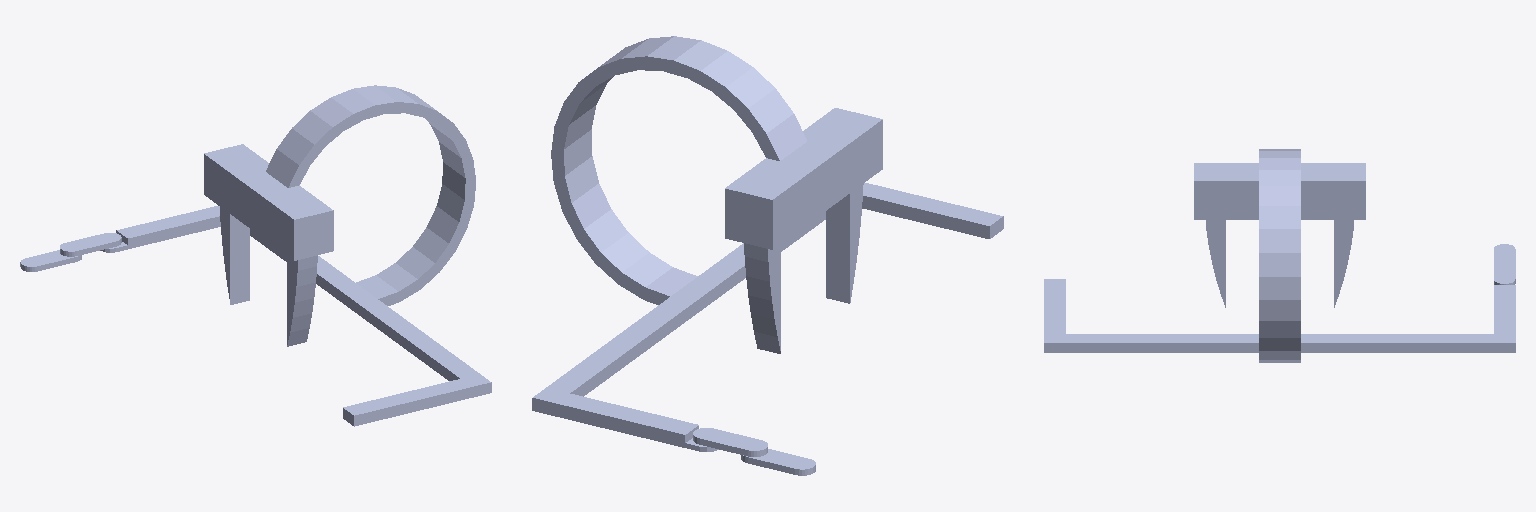
The robot description file, URDF, robot "grippertest0325":
<?xml version="1.0" encoding="utf-8" ?>
<!-- This URDF was automatically created by SolidWorks to URDF Exporter! Originally created by [author] ([email redacted]) 
     Commit Version: 1.6.0-1-g15f4949  Build Version: 1.6.7594.29634
     For more information, please see http://wiki.ros.org/sw_urdf_exporter -->
<robot name="grippertest0325">
    <link name="dummy" />
    <link name="Link_0">
        
<inertial>
            <origin xyz="0.01 0 0.00125" rpy="0 0 0" />
            <mass value="0.00069635" />
            <inertia ixx="5.7565E-09" ixy="-2.5269E-25" ixz="-1.969E-25" iyy="4.6225E-08" iyz="3.767E-27" izz="5.1256E-08" />
        </inertial>

        <visual>
            <origin xyz="0 0 0" rpy="0 0 0" />
            <geometry>
                <mesh filename="package://grippertest0325/meshes/Link_0.STL" />
            </geometry>
            <material name="">
                <color rgba="0.79216 0.81961 0.93333 1" />
            </material>
        </visual>
        <collision>
            <origin xyz="0 0 0" rpy="0 0 0" />
            <geometry>
                <mesh filename="package://grippertest0325/meshes/Link_0.STL" />
            </geometry>
        </collision>
    </link>
    <joint name="dummy_joint" type="fixed">
        <parent link="dummy" />
        <child link="Link_0" />
    </joint>
    <link name="Link_1">
        
<inertial>
            <origin xyz="0.01 -1.3878E-17 0.00125" rpy="0 0 0" />
            <mass value="0.00069635" />
            <inertia ixx="5.7565E-09" ixy="-7.4647E-26" ixz="-1.1962E-25" iyy="4.6225E-08" iyz="3.767E-27" izz="5.1256E-08" />
        </inertial>

        <visual>
            <origin xyz="0 0 0" rpy="0 0 0" />
            <geometry>
                <mesh filename="package://grippertest0325/meshes/Link_1.STL" />
            </geometry>
            <material name="">
                <color rgba="0.79216 0.81961 0.93333 1" />
            </material>
        </visual>
        <collision>
            <origin xyz="0 0 0" rpy="0 0 0" />
            <geometry>
                <mesh filename="package://grippertest0325/meshes/Link_1.STL" />
            </geometry>
        </collision>
    </link>
    <joint name="Joint_1" type="revolute">
        <origin xyz="0.02 0 0.0027786" rpy="0 0 0" />
        <parent link="Link_0" />
        <child link="Link_1" />
        <axis xyz="0 0 1" />
        <limit lower="-1.5708" upper="1.5708" effort="50" velocity="0.1" />
    </joint>
    <link name="Link_2">
        
<inertial>
            <origin xyz="0.048044 -0.10517 0.043641" rpy="0 0 0" />
            <mass value="0.071091" />
            <inertia ixx="0.00020235" ixy="-5.167E-07" ixz="1.301E-05" iyy="0.00014954" iyz="-4.9942E-07" izz="0.00021352" />
        </inertial>

        <visual>
            <origin xyz="0 0 0" rpy="0 0 0" />
            <geometry>
                <mesh filename="package://grippertest0325/meshes/Link_2.STL" />
            </geometry>
            <material name="">
                <color rgba="0.79216 0.81961 0.93333 1" />
            </material>
        </visual>
        <collision>
            <origin xyz="0 0 0" rpy="0 0 0" />
            <geometry>
                <mesh filename="package://grippertest0325/meshes/Link_2.STL" />
            </geometry>
        </collision>
    </link>
    <joint name="Joint_2" type="revolute">
        <origin xyz="0.02 0 -0.00077864" rpy="0 0 0" />
        <parent link="Link_1" />
        <child link="Link_2" />
        <axis xyz="0 0 1" />
        <limit lower="-1.5708" upper="1.5708" effort="50" velocity="0.1" />
    </joint>
    <link name="Link_innerfinger">
        
<inertial>
            <origin xyz="-0.0037807 3.1225E-17 -0.017868" rpy="0 0 0" />
            <mass value="0.0030424" />
            <inertia ixx="4.5793E-07" ixy="-1.5066E-21" ixz="3.8184E-08" iyy="4.5194E-07" iyz="-1.9432E-22" izz="4.4555E-08" />
        </inertial>

        <visual>
            <origin xyz="0 0 0" rpy="0 0 0" />
            <geometry>
                <mesh filename="package://grippertest0325/meshes/Link_innerfinger.STL" />
            </geometry>
            <material name="">
                <color rgba="0.79216 0.81961 0.93333 1" />
            </material>
        </visual>
        <collision>
            <origin xyz="0 0 0" rpy="0 0 0" />
            <geometry>
                <mesh filename="package://grippertest0325/meshes/Link_innerfinger.STL" />
            </geometry>
        </collision>
    </link>
    <joint name="Joint_innerfinger" type="prismatic">
        <origin xyz="0.02 -0.08 0.048" rpy="0 0 -1.5708" />
        <parent link="Link_2" />
        <child link="Link_innerfinger" />
        <axis xyz="1 0 0" />
        <limit lower="-0.25" upper="0.25" effort="50" velocity="0.005" />
    </joint>
    <link name="Link_exterfinger">
        
<inertial>
            <origin xyz="0.0037807 -1.648E-16 -0.017868" rpy="0 0 0" />
            <mass value="0.0030424" />
            <inertia ixx="4.5793E-07" ixy="-2.3911E-21" ixz="-3.8184E-08" iyy="4.5194E-07" iyz="-2.5791E-21" izz="4.4555E-08" />
        </inertial>

        <visual>
            <origin xyz="0 0 0" rpy="0 0 0" />
            <geometry>
                <mesh filename="package://grippertest0325/meshes/Link_exterfinger.STL" />
            </geometry>
            <material name="">
                <color rgba="0.79216 0.81961 0.93333 1" />
            </material>
        </visual>
        <collision>
            <origin xyz="0 0 0" rpy="0 0 0" />
            <geometry>
                <mesh filename="package://grippertest0325/meshes/Link_exterfinger.STL" />
            </geometry>
        </collision>
    </link>
    <joint name="Joint_exterfinger" type="prismatic">
        <origin xyz="0.02 -0.13 0.048" rpy="0 0 -1.5708" />
        <parent link="Link_2" />
        <child link="Link_exterfinger" />
        <axis xyz="1 0 0" />
        <limit lower="-0.25" upper="0.25" effort="50" velocity="0.005" />
    </joint>
    
<transmission name="trans_Joint_1">
        <type>transmission_interface/SimpleTransmission</type>
        <joint name="Joint_1">
            <hardwareInterface>hardware_interface/PositionJointInterface</hardwareInterface>
        </joint>
        <actuator name="Joint_1_motor">
            <hardwareInterface>hardware_interface/PositionJointInterface</hardwareInterface>
            <mechanicalReduction>1</mechanicalReduction>
        </actuator>
    </transmission>
    <transmission name="trans_Joint_2">
        <type>transmission_interface/SimpleTransmission</type>
        <joint name="Joint_2">
            <hardwareInterface>hardware_interface/PositionJointInterface</hardwareInterface>
        </joint>
        <actuator name="Joint_2_motor">
            <hardwareInterface>hardware_interface/PositionJointInterface</hardwareInterface>
            <mechanicalReduction>1</mechanicalReduction>
        </actuator>
    </transmission>
    <transmission name="trans_Joint_innerfinger">
        <type>transmission_interface/SimpleTransmission</type>
        <joint name="Joint_innerfinger">
            <hardwareInterface>hardware_interface/PositionJointInterface</hardwareInterface>
        </joint>
        <actuator name="Joint_innerfinger_motor">
            <hardwareInterface>hardware_interface/PositionJointInterface</hardwareInterface>
            <mechanicalReduction>1</mechanicalReduction>
        </actuator>
    </transmission>
    <transmission name="trans_Joint_exterfinger">
        <type>transmission_interface/SimpleTransmission</type>
        <joint name="Joint_exterfinger">
            <hardwareInterface>hardware_interface/PositionJointInterface</hardwareInterface>
        </joint>
        <actuator name="Joint_exterfinger_motor">
            <hardwareInterface>hardware_interface/PositionJointInterface</hardwareInterface>
            <mechanicalReduction>1</mechanicalReduction>
        </actuator>
    </transmission>
    <gazebo reference="Link_innerfinger">
        <material>Gazebo/Red</material>
        <mu1>0.5</mu1>
        <mu2>0.5</mu2>
        <fdir1>0 1 0</fdir1>        
    </gazebo>
    <gazebo reference="Link_exterfinger">
        <material>Gazebo/Green</material>
        <mu1>0.5</mu1>
        <mu2>0.5</mu2>
        <fdir1>0 1 0</fdir1>
    </gazebo>
    <gazebo>
     <plugin name="gazebo_grasp_fix" filename="libgazebo_grasp_fix.so">
           <arm>
             <arm_name>arm_grippertest</arm_name>
             <palm_link>Link_2</palm_link>
             <gripper_link>Link_innerfinger</gripper_link>
             <gripper_link>Link_exterfinger</gripper_link>
           </arm>
       <forces_angle_tolerance>150</forces_angle_tolerance>
       <update_rate>130</update_rate>
       <grip_count_threshold>2</grip_count_threshold>
       <max_grip_count>8</max_grip_count>
       <release_tolerance>0.01</release_tolerance>
       <disable_collisions_on_attach>true</disable_collisions_on_attach>
       <contact_topic>__default_topic__</contact_topic>
     </plugin>
    </gazebo>
    <gazebo>
        <plugin name="gazebo_ros_control" filename="libgazebo_ros_control.so">
            <robotNamespace>/</robotNamespace>
        </plugin>
    </gazebo>
</robot>

--- Render facts (derived) ---
Views: 3 orthographic renders of the robot side by side, from view 1: azimuth 30°, elevation 25°; view 2: azimuth 150°, elevation 25°; view 3: azimuth 270°, elevation 25°.
Model grippertest0325 with 6 links and 5 joints (2 revolute, 2 prismatic, 1 fixed), rooted at dummy, posed all joints at 0.
Links seen in each view (by area): view 1: Link_2, Link_exterfinger, Link_innerfinger, Link_1, Link_0; view 2: Link_2, Link_innerfinger, Link_exterfinger, Link_1, Link_0; view 3: Link_2, Link_innerfinger, Link_exterfinger, Link_1.
Boxes of the visible links, x1,y1,x2,y2 form: Link_2: (100,85,491,426); Link_exterfinger: (287,255,317,346); Link_innerfinger: (220,207,249,304); Link_1: (60,233,121,256); Link_0: (20,250,81,271); Link_2: (532,36,1003,451); Link_innerfinger: (744,243,780,353); Link_exterfinger: (826,184,863,303); Link_1: (693,428,767,456); Link_0: (741,449,815,475); Link_2: (1044,149,1515,362); Link_innerfinger: (1334,220,1353,307); Link_exterfinger: (1206,220,1225,307); Link_1: (1494,257,1515,284).
Bounding box of the posed robot: 0.165 × 0.22 × 0.1 m (x, y, z).
Meshes: 5 distinct files referenced, 5 mesh visuals loaded (5 binary STL).